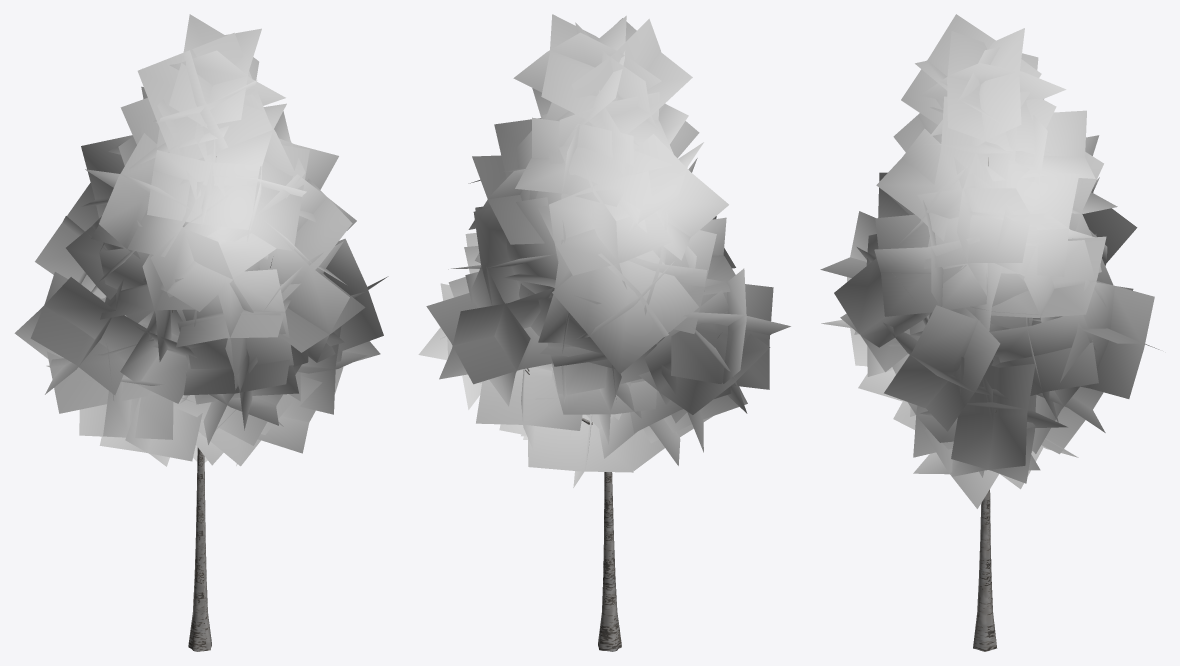
Rendered from tree07_main.fbx.
3 renders of one model, left to right at view 1: azimuth 30°, elevation 25°; view 2: azimuth 150°, elevation 25°; view 3: azimuth 270°, elevation 25°, orthographic.
Parts seen in each view (by area): view 1: tree.005; view 2: tree.005; view 3: tree.005.
Boxes of the visible parts, box(x1,y1,x2,y2) form: tree.005: box(14, 14, 388, 651); tree.005: box(418, 14, 790, 651); tree.005: box(820, 14, 1159, 651).
Size of the model in its own units: 756 by 1300 by 654.
